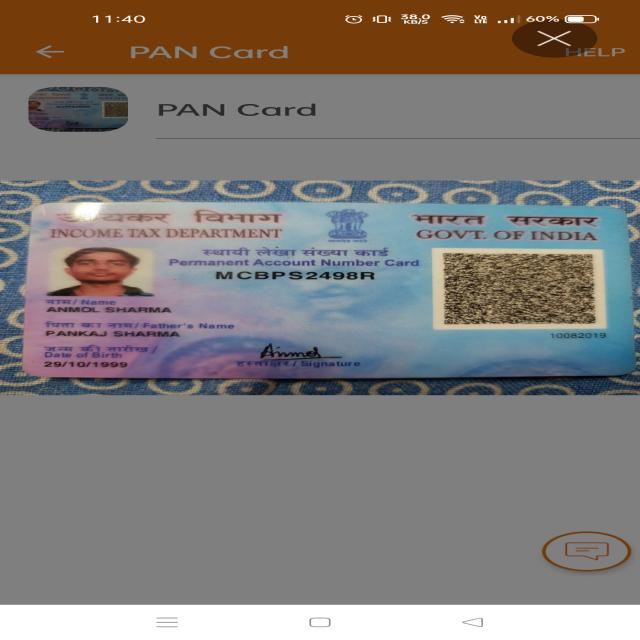pan_card: (14, 204, 626, 373)
